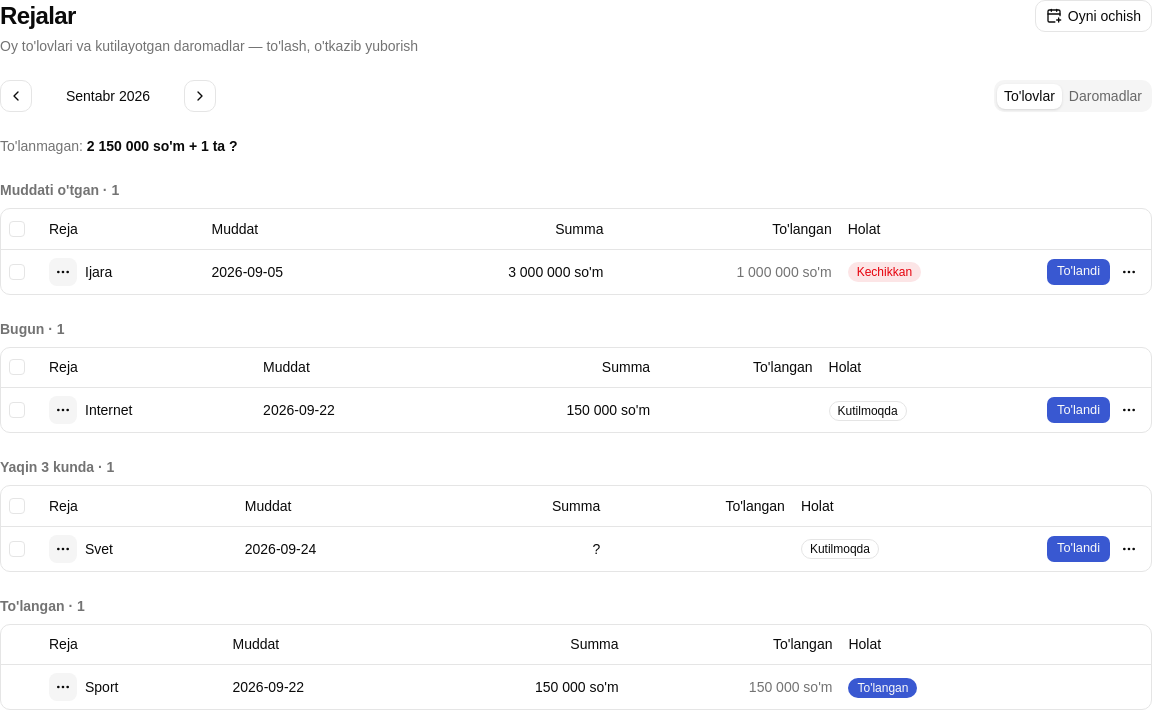
Scenario: PlansPage (E23-T04) › To‘landi: summa standart — qolgan; kamroq bo‘lsa — yopish tanlovi (BR-073)
Click the button "To'landi" in the row of "Ijara": (1078, 272) [1046,258,1111,286]
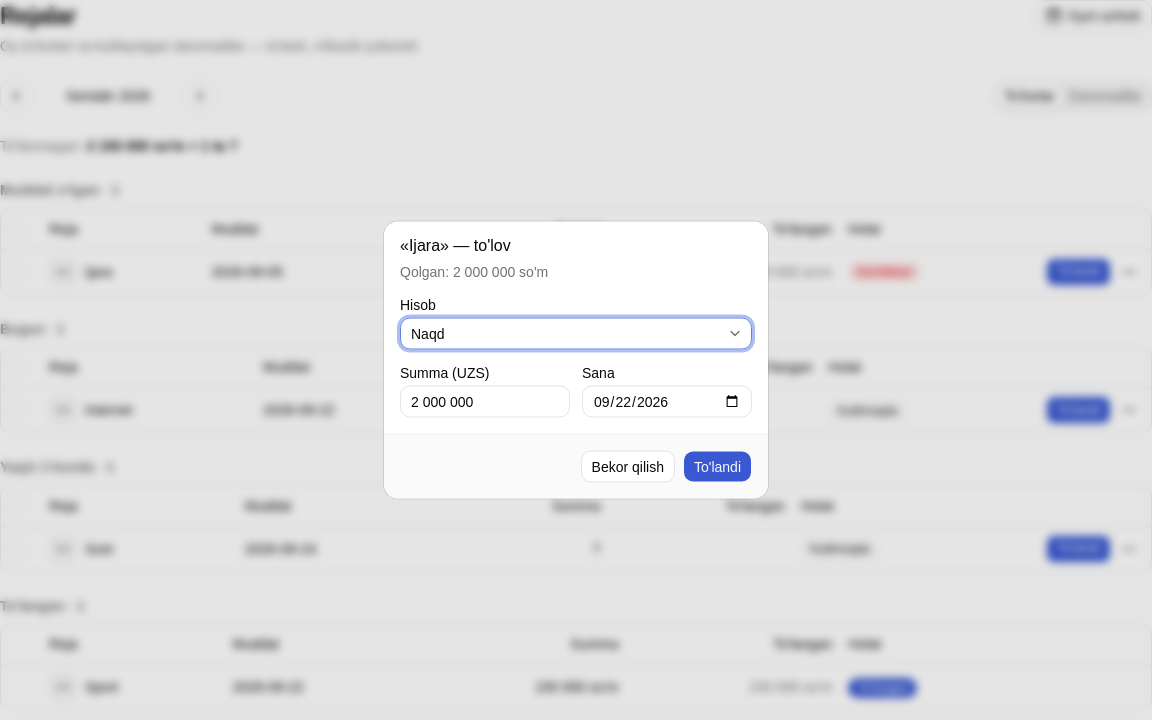
Expected: the text "Qolgan: 2 000 000 so'm" is shown, [400,264,548,280]
Expected: the field labelled "Summa (UZS)" holds "2 000 000"
Replace the text in the field labelled "Summa (UZS)" with "500 000": (485, 402) [400,386,570,418]
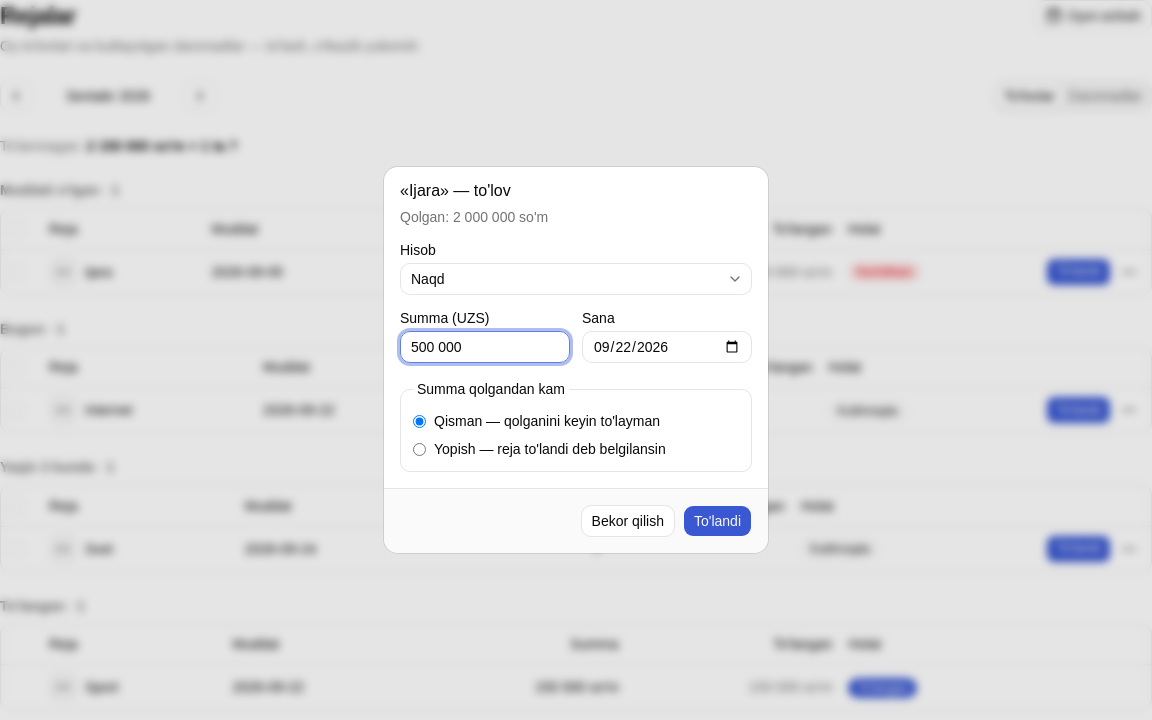
Click the radio button labelled "Yopish — reja to'landi deb belgilansin": (420, 449) [413,442,426,456]
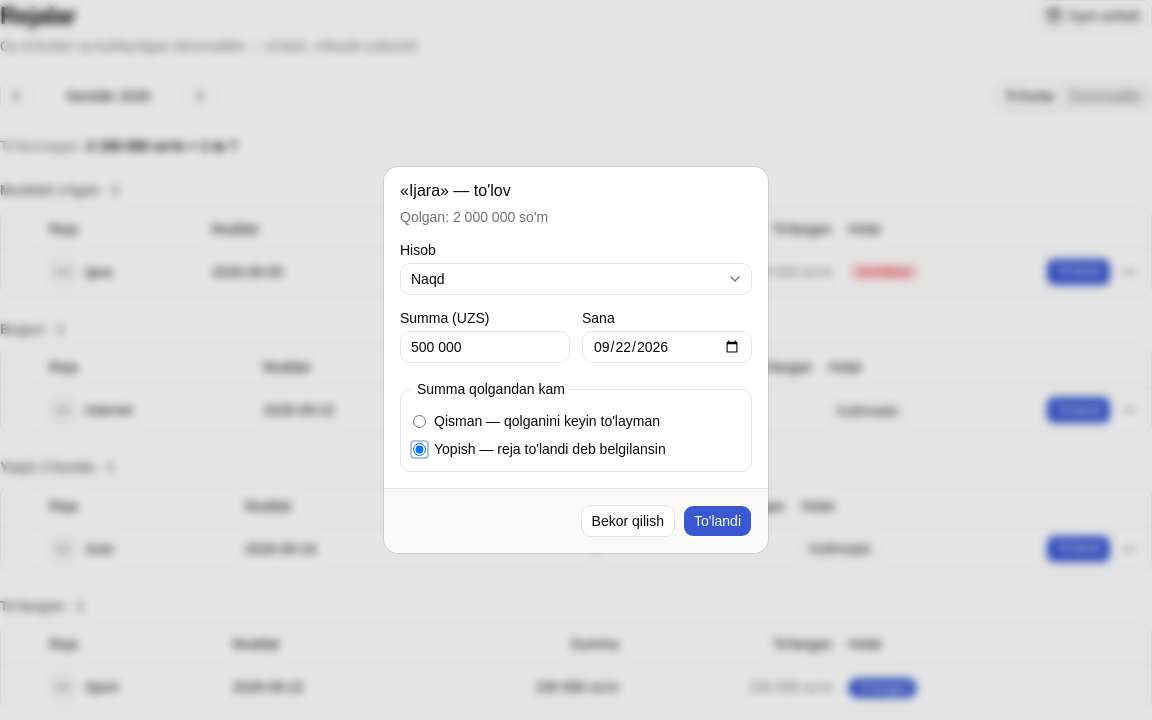
Click the button "To'landi": (718, 521) [683,505,752,537]
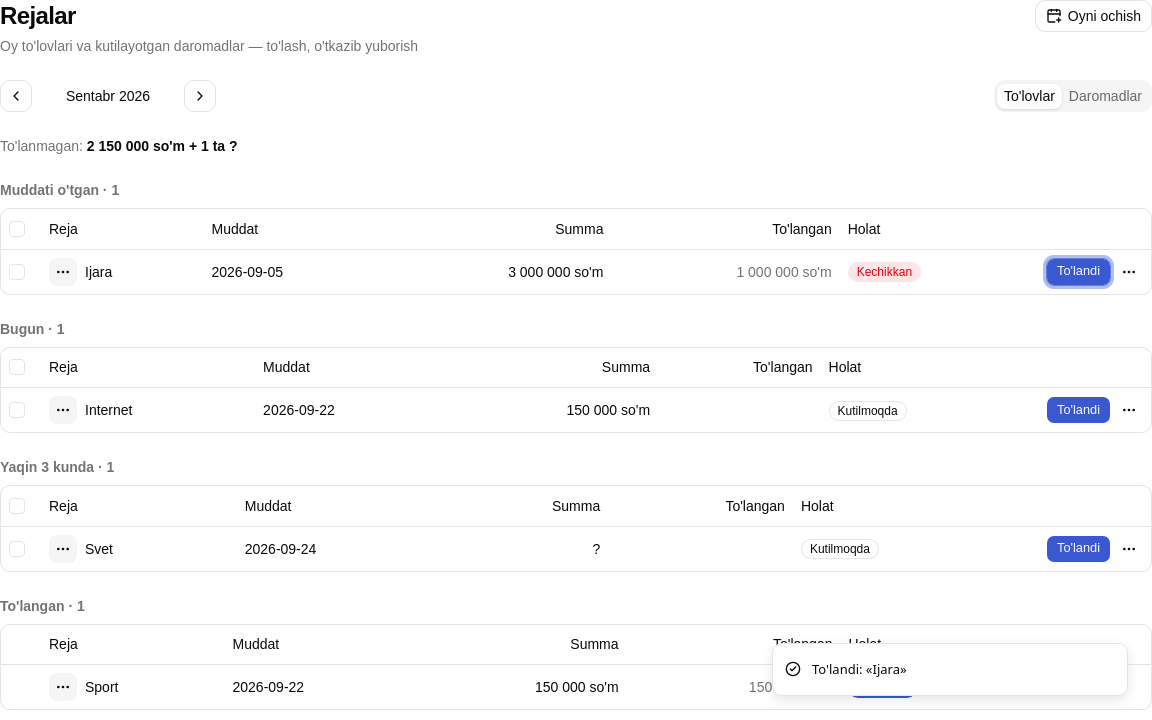
Expected: the text "To'landi: «Ijara»" is shown, [812,660,907,679]
